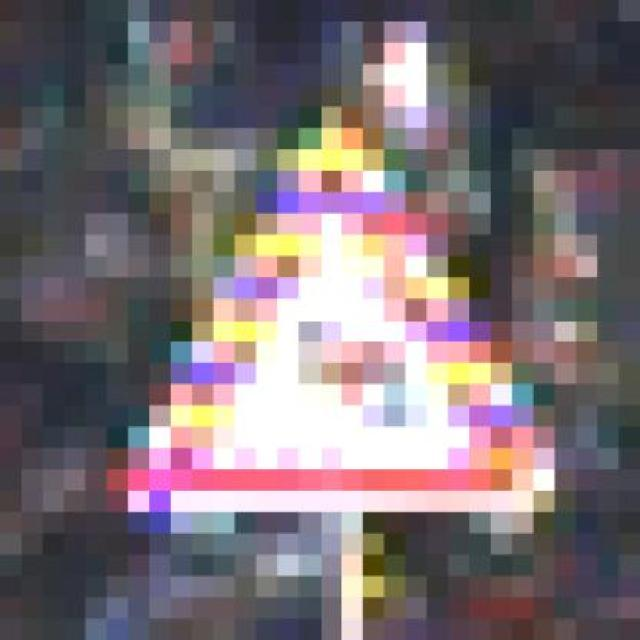Left Zig Zag Traffic: (129, 85, 576, 533)
